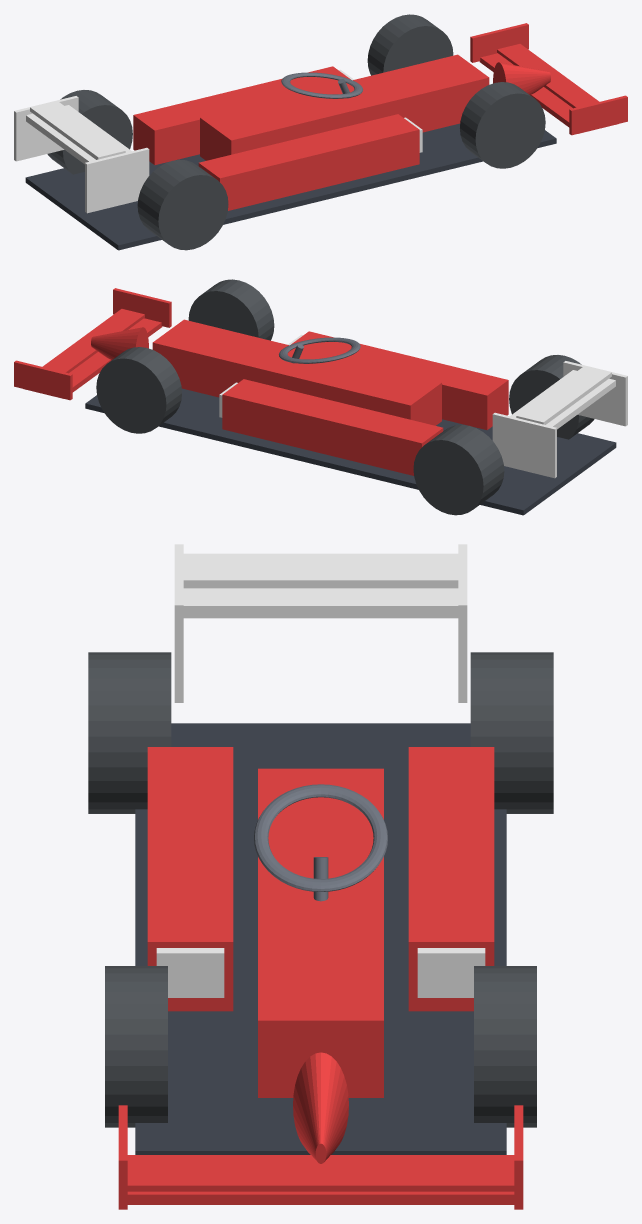
File: 2026_active_aero.glb
3 renders of one model, top to bottom at view 1: azimuth 30°, elevation 25°; view 2: azimuth 150°, elevation 25°; view 3: azimuth 270°, elevation 25°, orthographic. The views are drawn at different scales.
Parts seen in each view (by area): view 1: chassis_monocoque, sidepod_right, chassis_flush_floor, wheel_rr_tire, sidepod_left, wheel_fr_tire, wheel_fl_tire, rear_wing_endplate_right, wheel_rl_tire, rear_wing_active_flap, front_wing_active_flap, rear_wing_endplate_left (+6 smaller); view 2: chassis_monocoque, sidepod_left, chassis_flush_floor, wheel_rl_tire, sidepod_right, wheel_fl_tire, wheel_fr_tire, rear_wing_endplate_left, wheel_rr_tire, rear_wing_active_flap, front_wing_active_flap, rear_wing_endplate_right (+6 smaller); view 3: chassis_flush_floor, chassis_monocoque, sidepod_left, sidepod_right, wheel_rl_tire, wheel_rr_tire, front_wing_active_flap, rear_wing_active_flap, wheel_fl_tire, wheel_fr_tire, rear_wing_mainplane, front_wing_mainplane (+8 smaller).
Part boxes in pixels (x1=…): chassis_monocoque: x1=200, y1=54, x2=489, y2=160; sidepod_right: x1=198, y1=114, x2=419, y2=210; chassis_flush_floor: x1=25, y1=123, x2=556, y2=250; wheel_rr_tire: x1=137, y1=159, x2=228, y2=250; sidepod_left: x1=133, y1=66, x2=350, y2=164; wheel_fr_tire: x1=460, y1=82, x2=545, y2=168; wheel_fl_tire: x1=367, y1=14, x2=453, y2=75; rear_wing_endplate_right: x1=85, y1=147, x2=149, y2=213; wheel_rl_tire: x1=47, y1=90, x2=132, y2=174; rear_wing_active_flap: x1=30, y1=100, x2=125, y2=159; front_wing_active_flap: x1=497, y1=44, x2=599, y2=108; rear_wing_endplate_left: x1=14, y1=96, x2=78, y2=161; chassis_monocoque: x1=152, y1=319, x2=441, y2=425; sidepod_left: x1=222, y1=379, x2=443, y2=475; chassis_flush_floor: x1=85, y1=388, x2=616, y2=515; wheel_rl_tire: x1=413, y1=424, x2=504, y2=515; sidepod_right: x1=291, y1=331, x2=508, y2=429; wheel_fl_tire: x1=96, y1=347, x2=181, y2=433; wheel_fr_tire: x1=188, y1=279, x2=274, y2=340; rear_wing_endplate_left: x1=492, y1=412, x2=556, y2=478; wheel_rr_tire: x1=509, y1=355, x2=594, y2=439; rear_wing_active_flap: x1=516, y1=365, x2=611, y2=424; front_wing_active_flap: x1=42, y1=309, x2=144, y2=373; rear_wing_endplate_right: x1=563, y1=361, x2=627, y2=426; chassis_flush_floor: x1=135, y1=723, x2=506, y2=1154; chassis_monocoque: x1=258, y1=768, x2=383, y2=1097; sidepod_left: x1=408, y1=747, x2=494, y2=1011; sidepod_right: x1=147, y1=747, x2=233, y2=1011; wheel_rl_tire: x1=470, y1=652, x2=553, y2=813; wheel_rr_tire: x1=88, y1=652, x2=171, y2=813; front_wing_active_flap: x1=127, y1=1163, x2=514, y2=1191; rear_wing_active_flap: x1=183, y1=553, x2=458, y2=588; wheel_fl_tire: x1=474, y1=966, x2=536, y2=1127; wheel_fr_tire: x1=105, y1=966, x2=167, y2=1127; rear_wing_mainplane: x1=183, y1=588, x2=458, y2=618; front_wing_mainplane: x1=127, y1=1155, x2=514, y2=1204.
Bounding box in the file's own units: 5.41 × 0.9 × 2.07.
